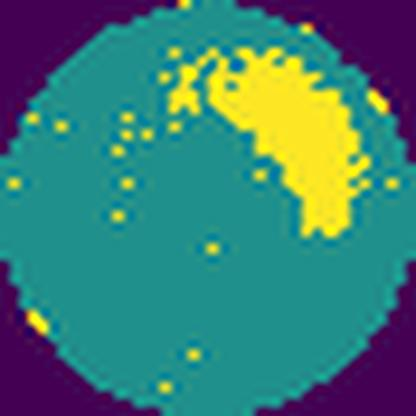Loc: (165, 46, 374, 242)
